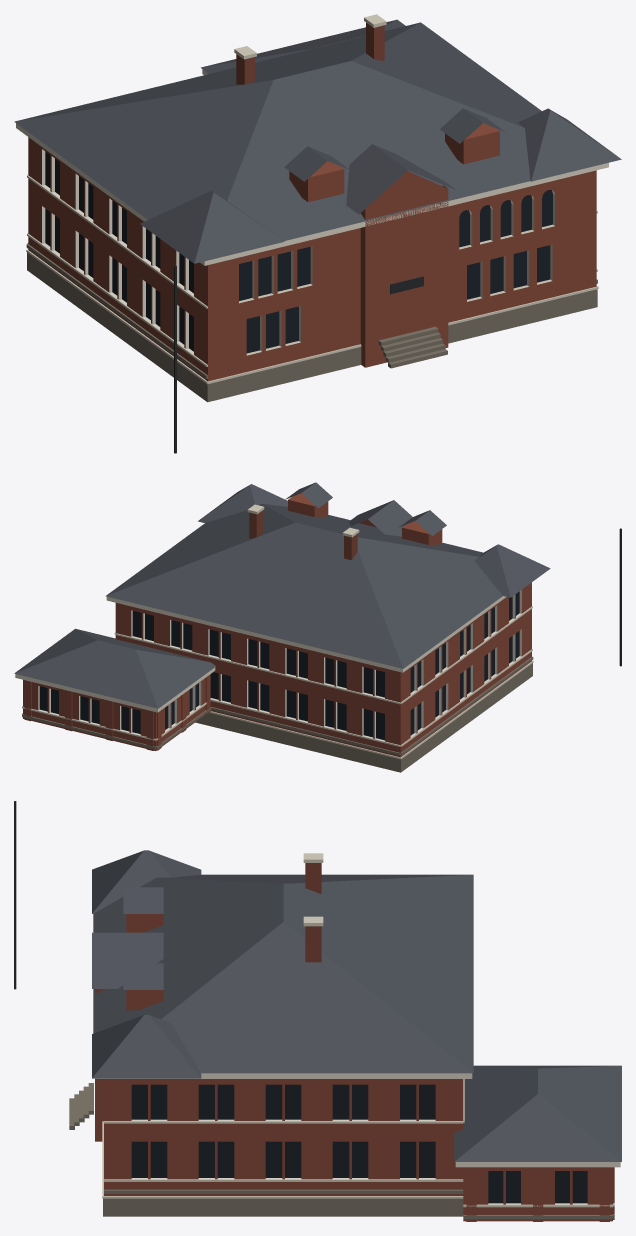
Rendered from bush.glb.
3 views of the same model, one above another, from view 1: azimuth 30°, elevation 25°; view 2: azimuth 150°, elevation 25°; view 3: azimuth 270°, elevation 25° (orthographic). The views are drawn at different scales.
Parts seen in each view (by area): view 1: bush_slate, bush_brick, bush_base, bush_glass, bush_stone, bush_sash, bush_trim, bush_brick2; view 2: bush_slate, bush_brick, bush_glass, bush_base, bush_sash, bush_stone, bush_trim, bush_brick2, bush_iron; view 3: bush_slate, bush_brick, bush_glass, bush_base, bush_stone, bush_trim, bush_brick2, bush_sash.
Part boxes in pixels (x1,y1,x2,y2): bush_slate: (14,19,621,263); bush_brick: (28,123,596,381); bush_base: (26,243,597,402); bush_glass: (45,151,552,353); bush_stone: (26,14,598,384); bush_sash: (42,149,193,354); bush_trim: (16,69,608,265); bush_brick2: (236,22,384,84); bush_slate: (14,482,550,708); bush_brick: (23,493,531,757); bush_glass: (39,591,519,740); bush_base: (22,656,533,772); bush_sash: (38,590,521,741); bush_stone: (22,504,533,759); bush_trim: (15,596,506,712); bush_brick2: (249,510,357,560); bush_iron: (619,528,621,666); bush_slate: (92,850,621,1161); bush_brick: (95,914,614,1221); bush_glass: (131,1084,587,1203); bush_base: (69,1083,614,1219); bush_stone: (102,853,614,1207); bush_trim: (95,1073,620,1167); bush_brick2: (305,863,321,962); bush_sash: (131,1119,587,1204).
Size of the model in its own units: 40.6 by 17.65 by 40.6.
